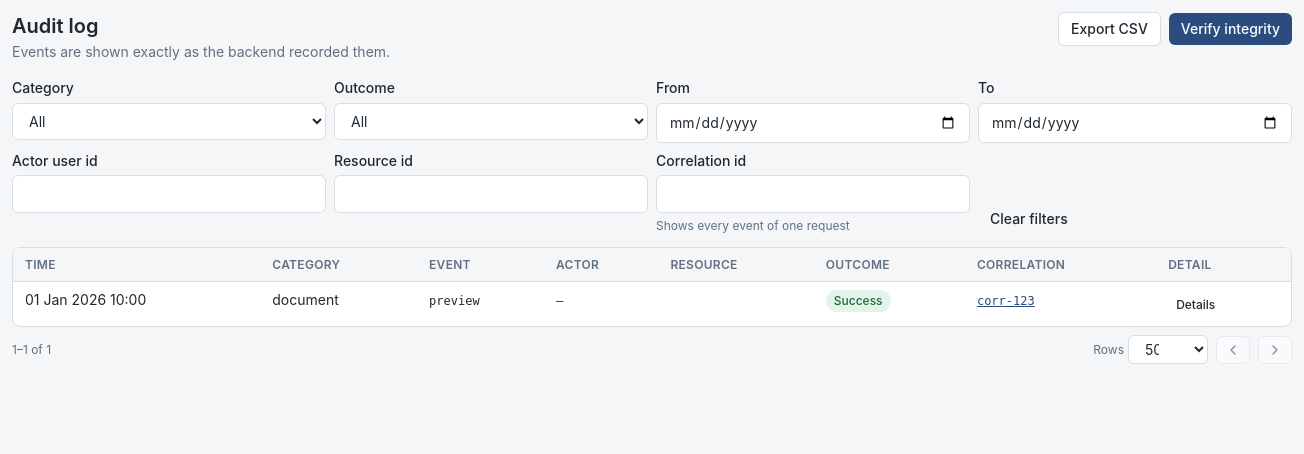
Scenario: audit integrity › reports a broken chain in red with escalation guidance
Click the button "Verify integrity" at (1230,29), box [1169,13,1292,45]
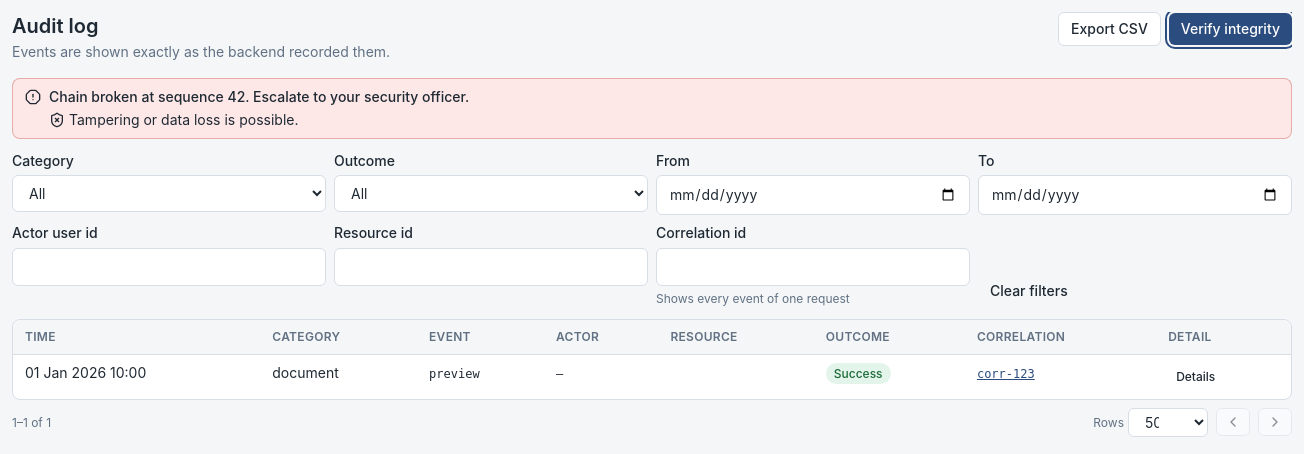
Check: the text "Chain broken at sequence 42" is shown, box [49,88,469,105]
Check: the message is shown, box [12,78,1292,139]
